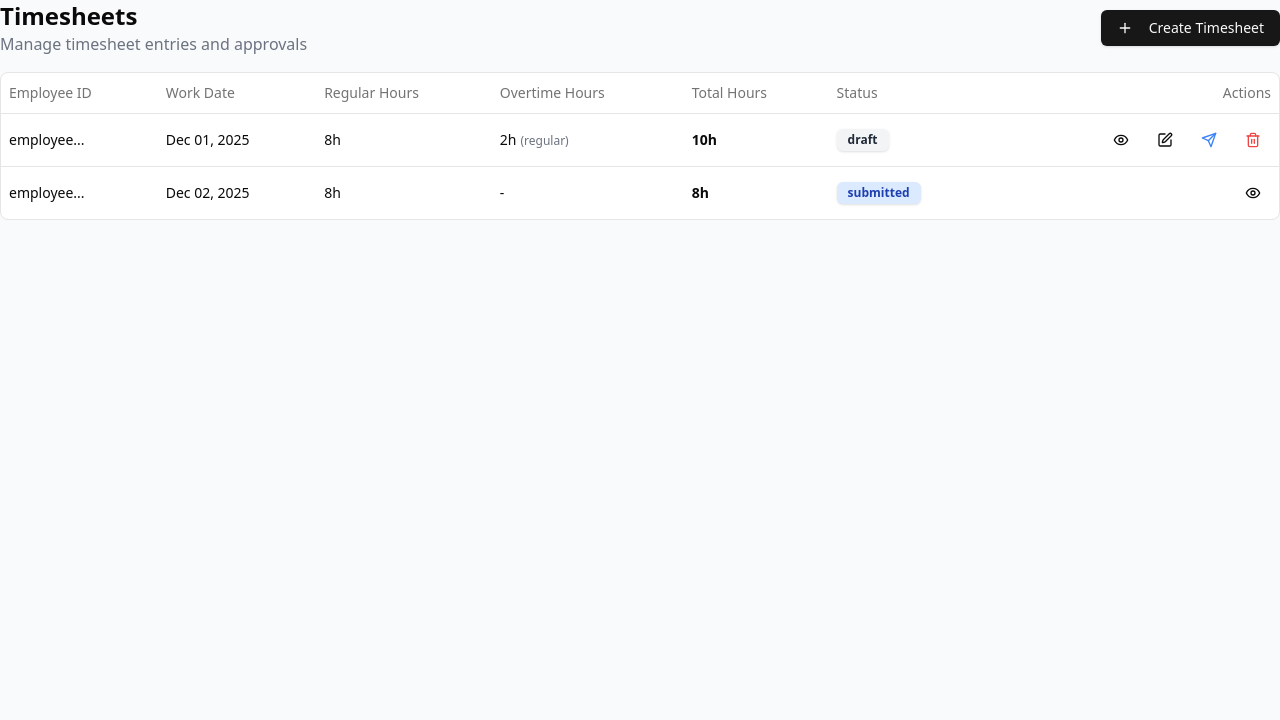
Test: TimesheetList › should open submit dialog on submit click
Expected: the text "draft" is shown, [837,128,888,150]
Click the button titled "Submit for approval": click(1209, 140) [1191,122,1227,158]
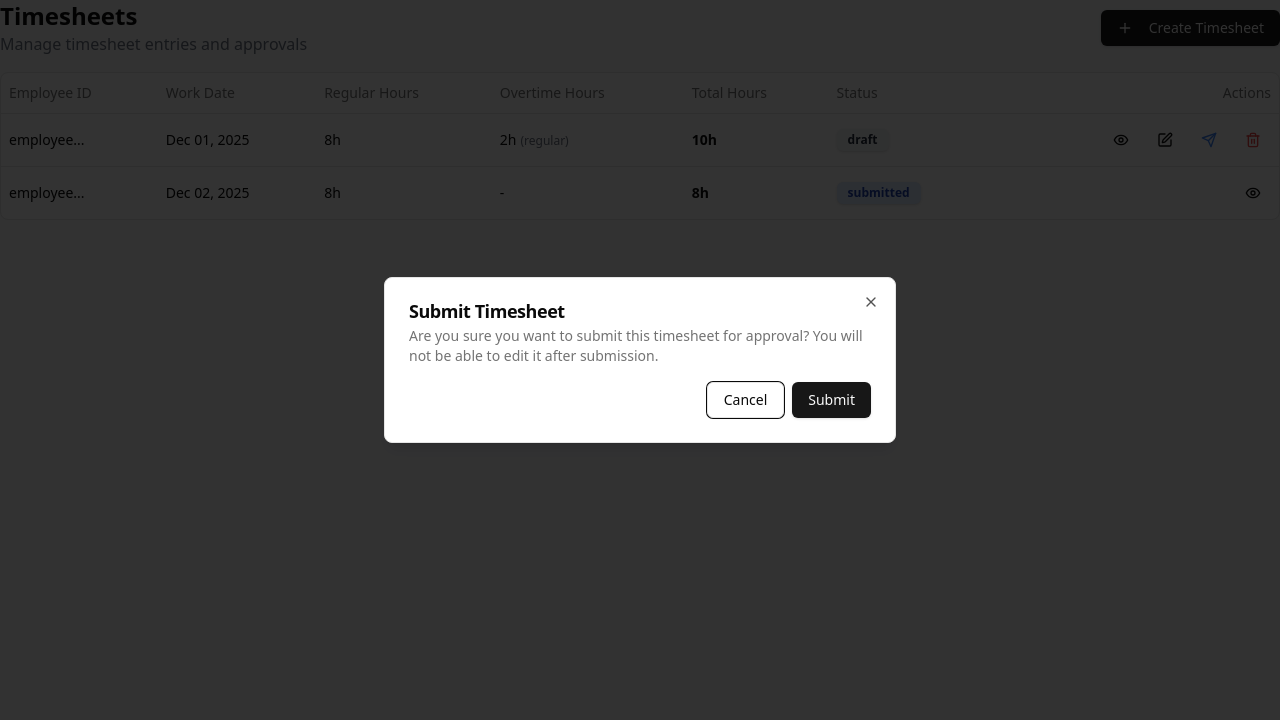
Result: the heading "Submit Timesheet" is shown at [409,299,565,323]
Result: the text "you will not be able to edit it after submission" is shown at [409,326,863,365]
